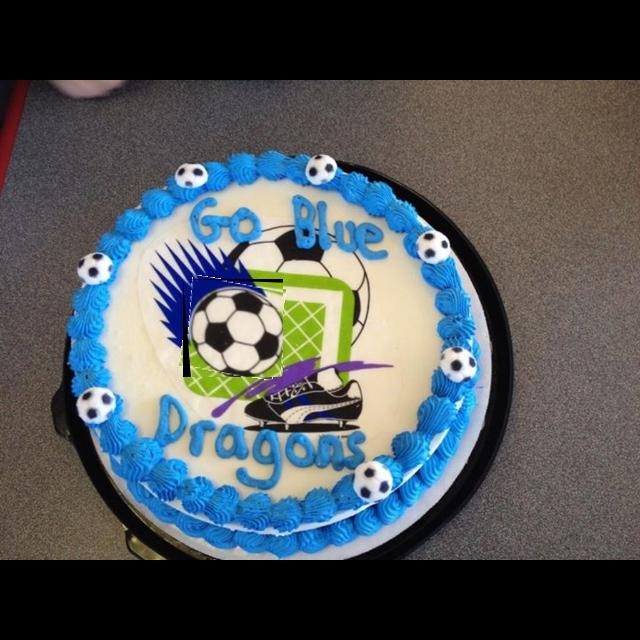Football: (183, 279, 283, 377)
